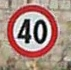limite 40: (5, 4, 59, 58)
